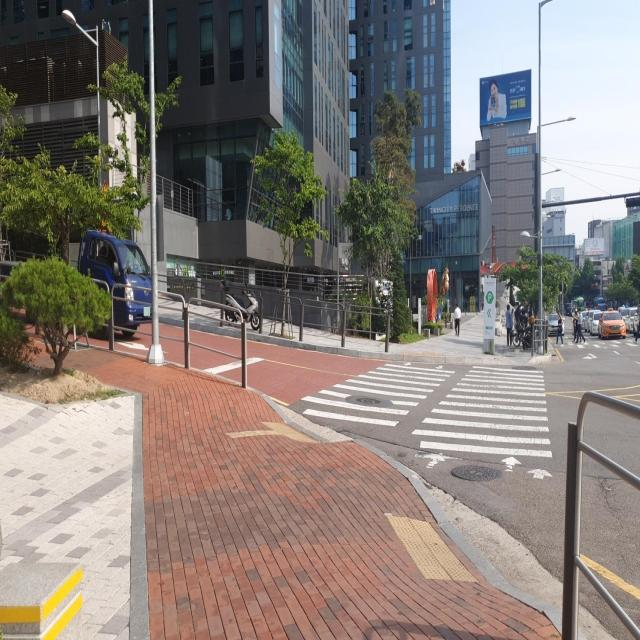횡단보도: (303, 360, 553, 480)
